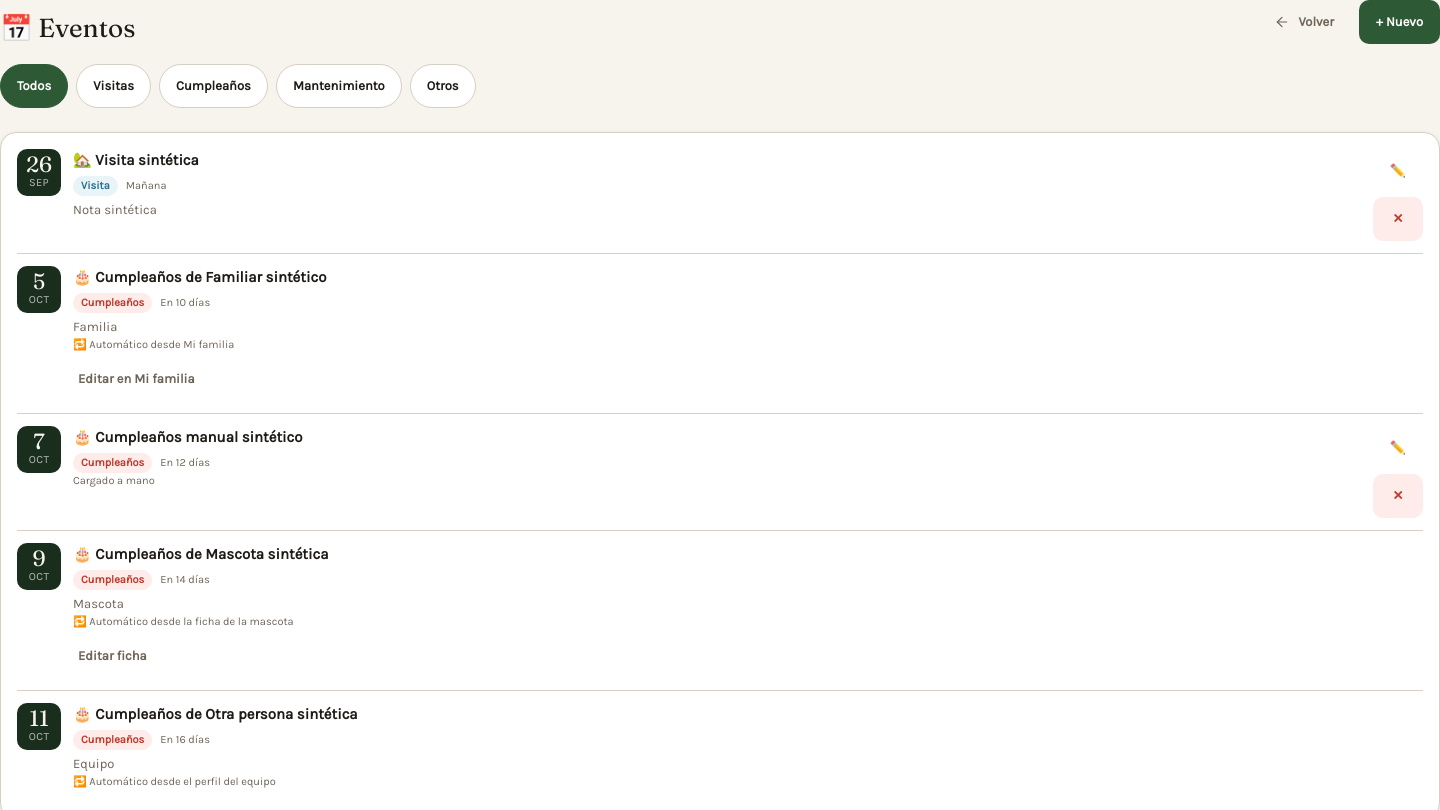
Test: 📅 Eventos › un duplicado de cumpleaños derivado muestra el mensaje del backend en español
Click the button "+ Nuevo": (1400, 22) [1359,0,1439,44]
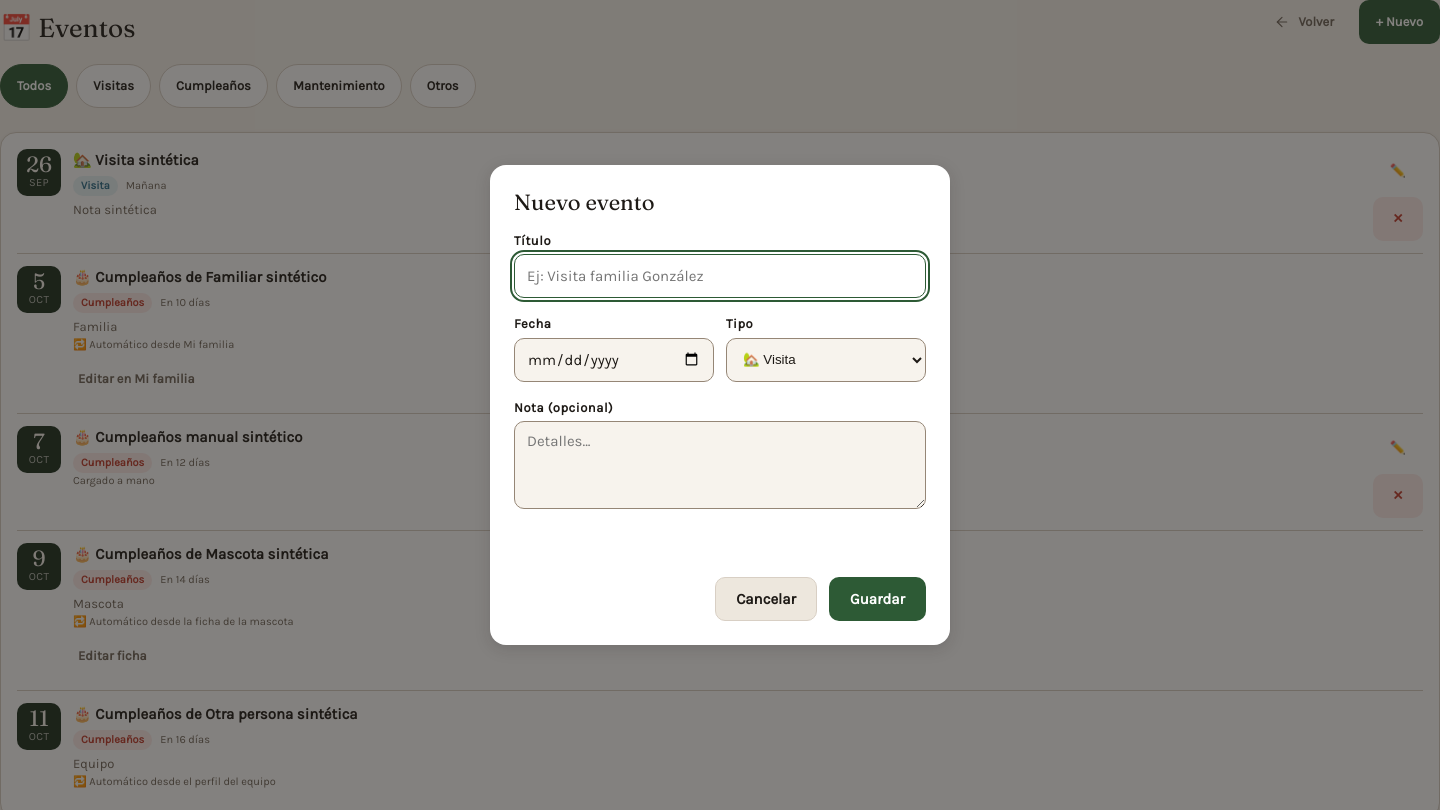
In the field labelled "Título": (720, 276) [514,254,926,298], type "Cumpleaños de Vicky"
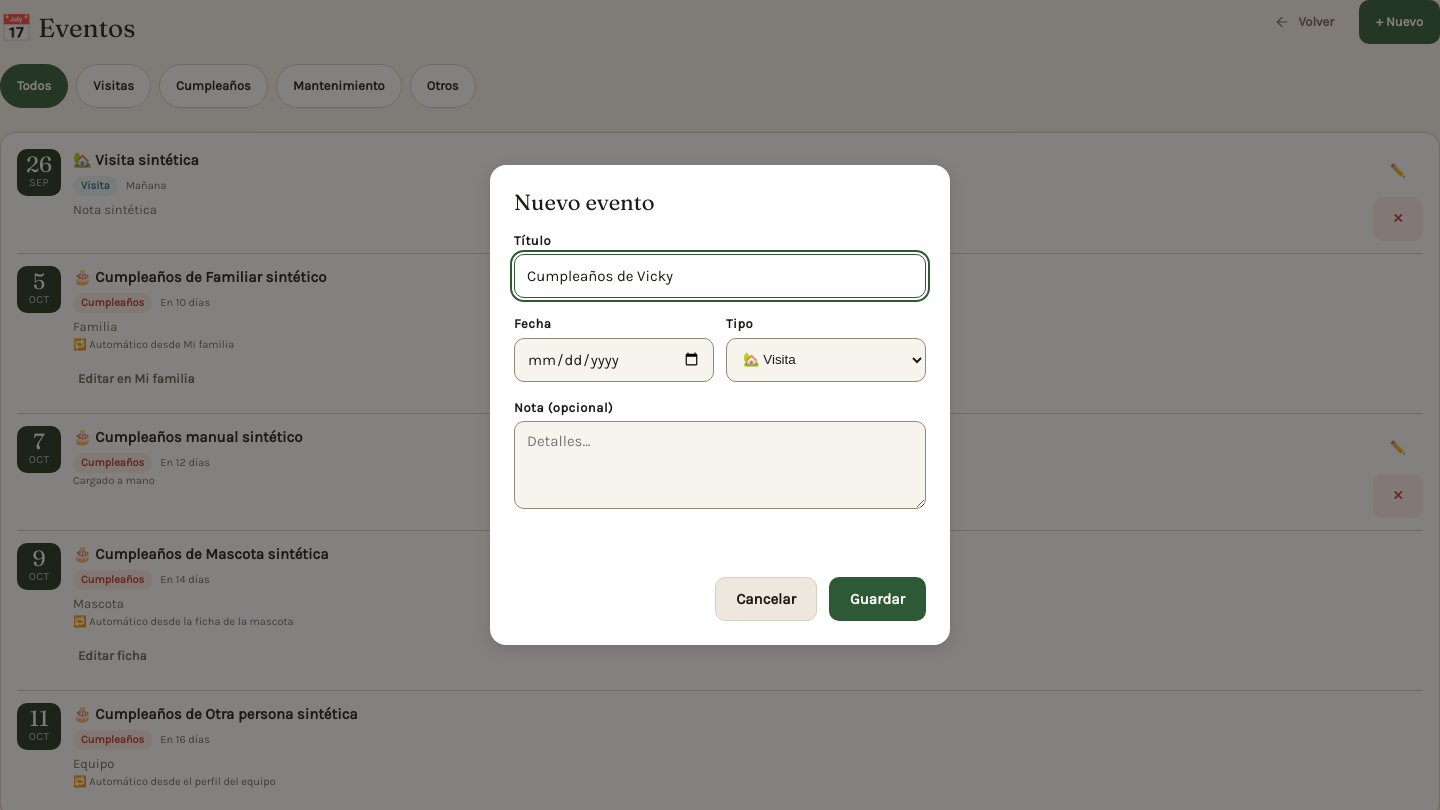
In the date field labelled "Fecha": (614, 360) [514,338,714,382], type "2027-03-10"
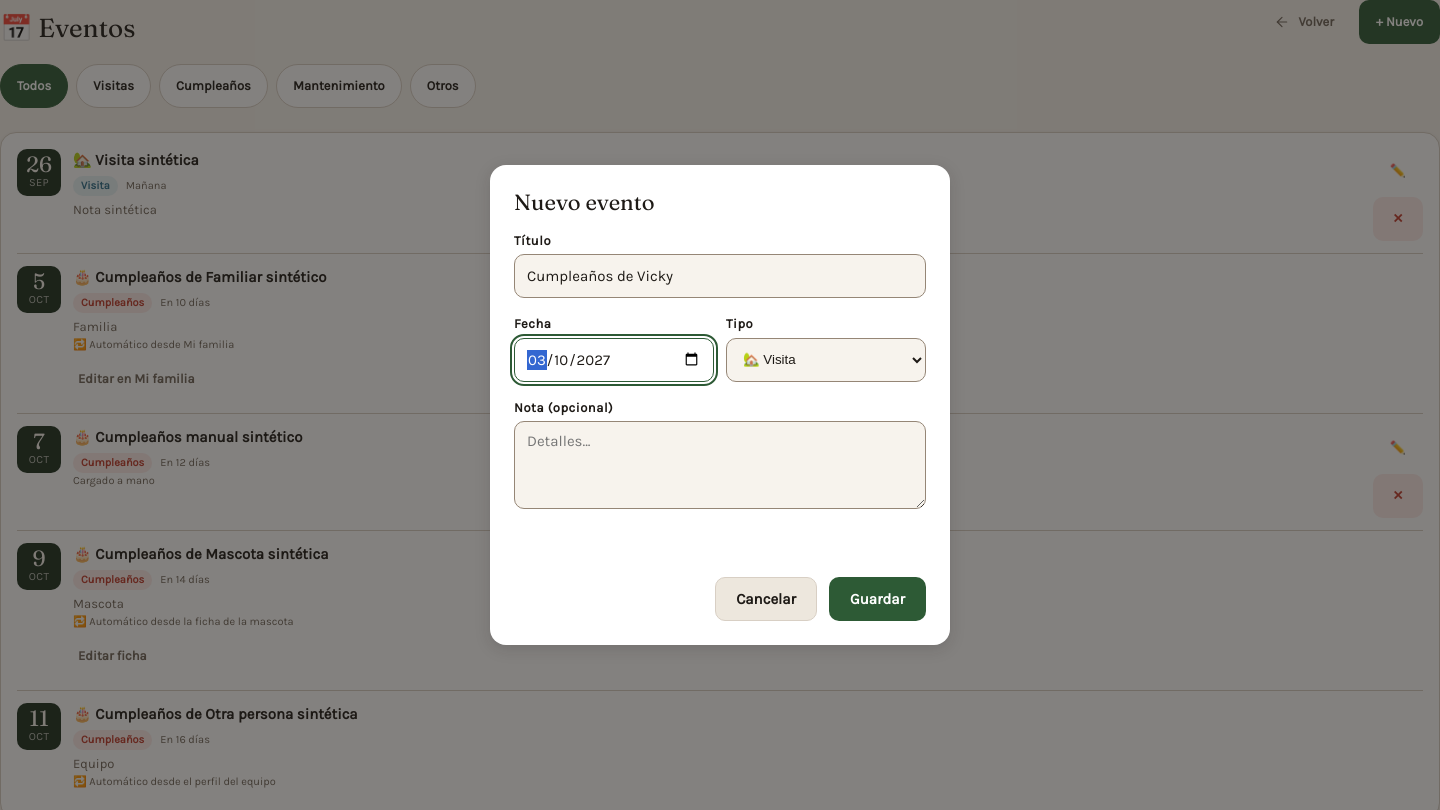
Select "🎂 Cumpleaños" in the dropdown labelled "Tipo": (826, 360) [726,338,926,382]
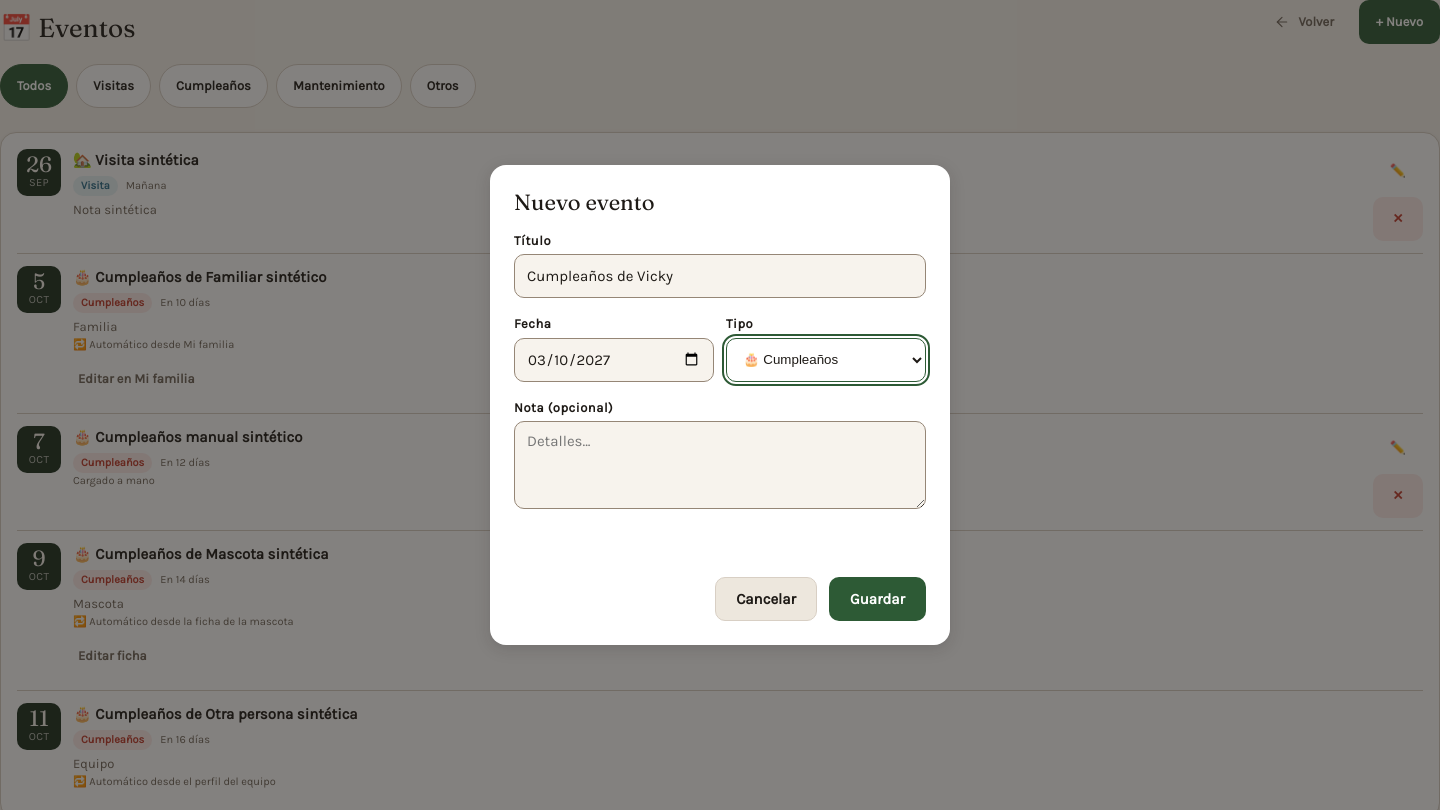
Click the button "Guardar": (878, 599) [829,577,926,621]
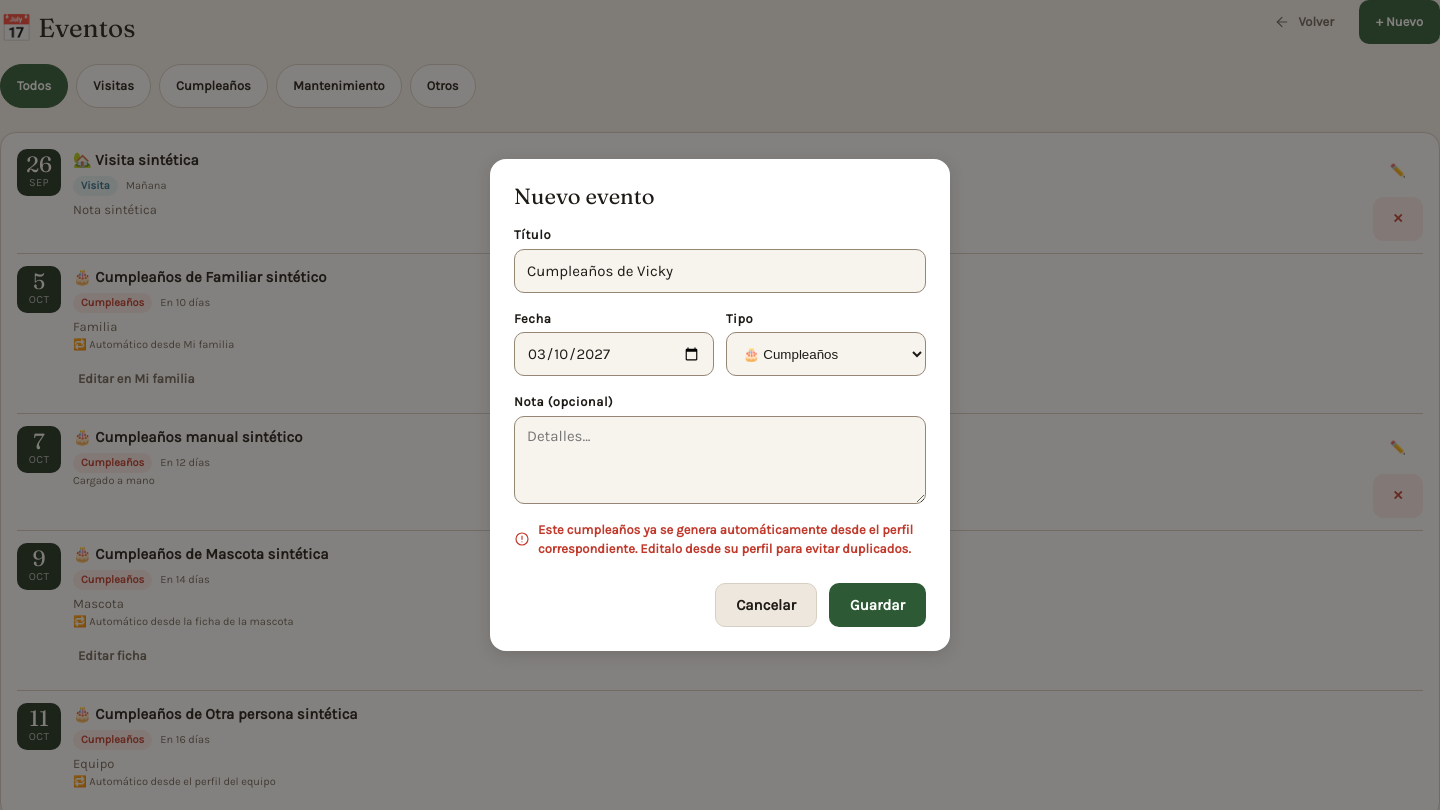
Now the message shows "Este cumpleaños ya se genera automáticamente desde el perfil correspondiente. Editalo desde su perfil para evitar duplicados.", box [538,522,913,556]
